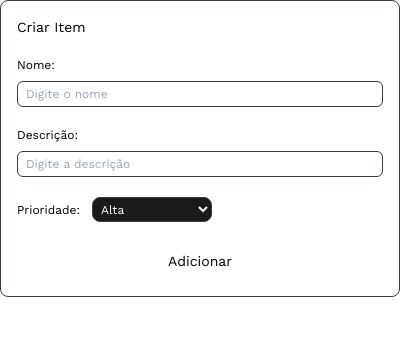
Test: FormAddItem Component › should display error messages for invalid inputs
The width and height of the screenshot is (417, 362).
Click the button "Adicionar": (200, 261) x1=50 y1=242 x2=350 y2=280
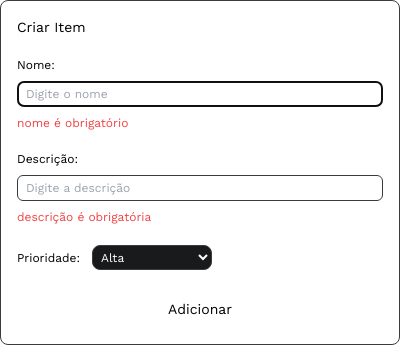
Result: the text "nome é obrigatório" is shown at x1=17 y1=116 x2=128 y2=130
Result: the text "descrição é obrigatória" is shown at x1=17 y1=210 x2=151 y2=224
